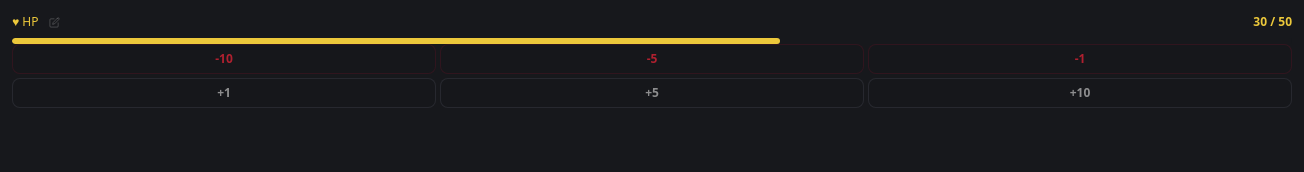
CombatantHpControls › clicar no lápis abre o CombatantHpEditor e esconde os botões de delta
What coordinates should you click on to do the following:
click the button titled "Editar HP atual e máximo"
I would click on:
 (54, 22)
Its box is left=44, top=12, right=64, bottom=32.
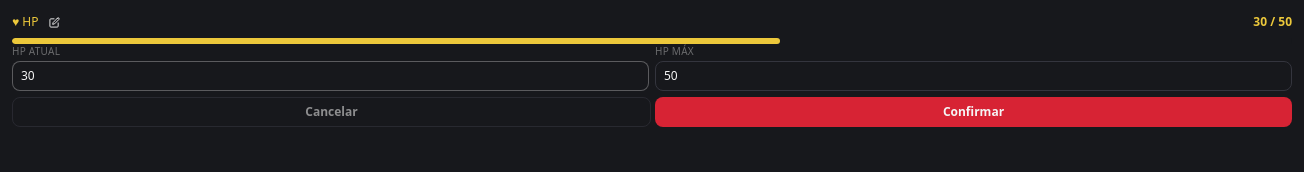
Result: the button "Confirmar" is shown at left=655, top=97, right=1292, bottom=127
Result: the button "+5" is gone
